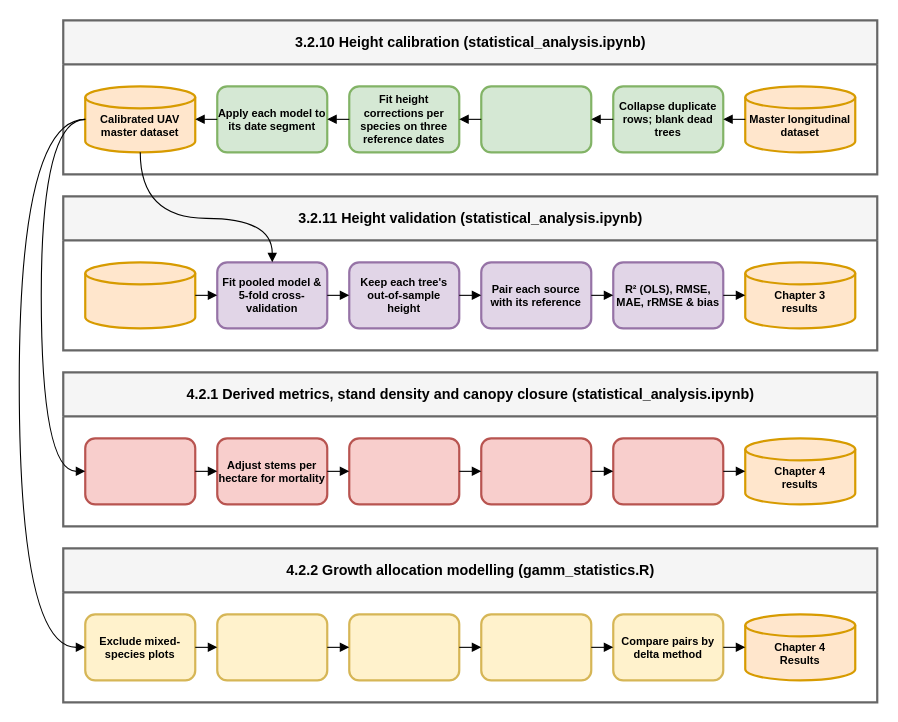
Image size: 898x722. Some labels were removed from this diagram. The shapes that lost their labels are listed below. From the top down, each one's centre as x and y in pixels, then its label:
point (536, 119): Apply cumulative maximum per tree
point (140, 295): TLS, ALS, field, CSF & DSM-derived
point (140, 471): Derive crown diameter & basal area
point (404, 471): Calculate Reineke's SDI and RDI
point (536, 471): Calculate crown cover index
point (668, 471): Calculate Curtis' RD at study end
point (272, 647): Fit bam() GAMMs: height, crown area & CA:H
point (404, 647): Refit with per-cell variance weights
point (536, 647): Back-transform with Duan smearing
